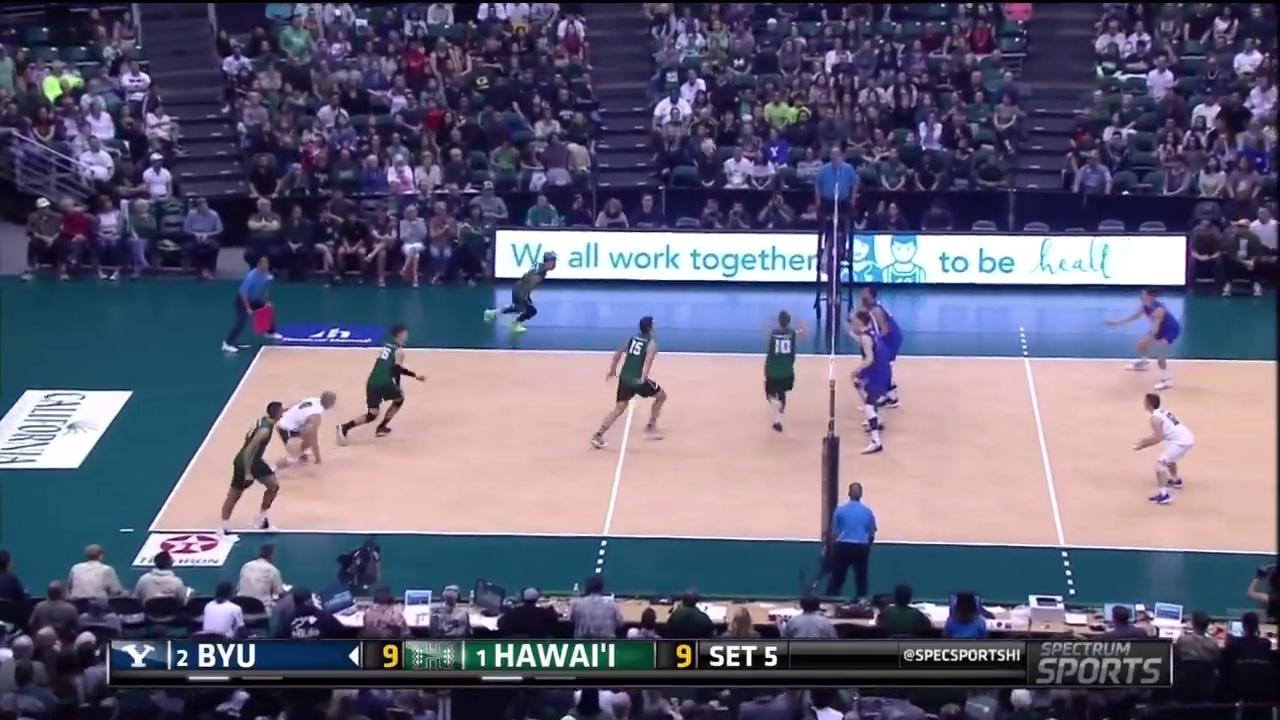player: (590, 318, 667, 446), (222, 400, 292, 529), (347, 329, 427, 439), (1118, 279, 1189, 393), (1134, 393, 1201, 505), (849, 313, 896, 461), (486, 249, 554, 350), (852, 294, 897, 426), (863, 280, 907, 409), (279, 385, 336, 471), (765, 308, 802, 428)
refree: (819, 479, 881, 596), (222, 257, 286, 351), (811, 140, 859, 256)
